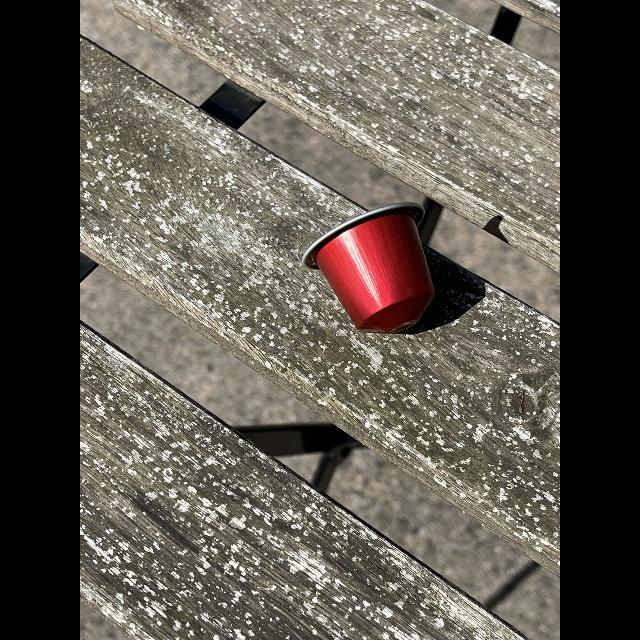intact_capsule: (294, 190, 456, 340)
